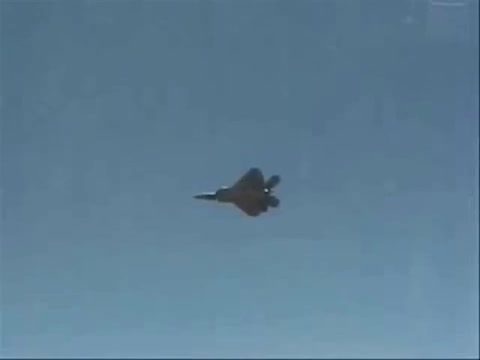aeroplane: (193, 168, 285, 218)
